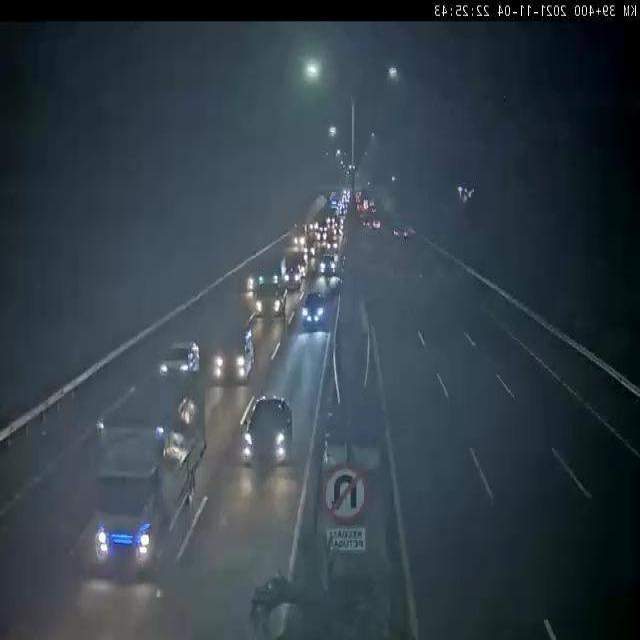Car: (241, 394, 301, 470), (213, 328, 258, 384), (249, 267, 290, 321), (298, 285, 331, 334), (318, 250, 341, 276), (281, 262, 302, 290), (326, 234, 340, 253)
Truck: (68, 364, 202, 580)
